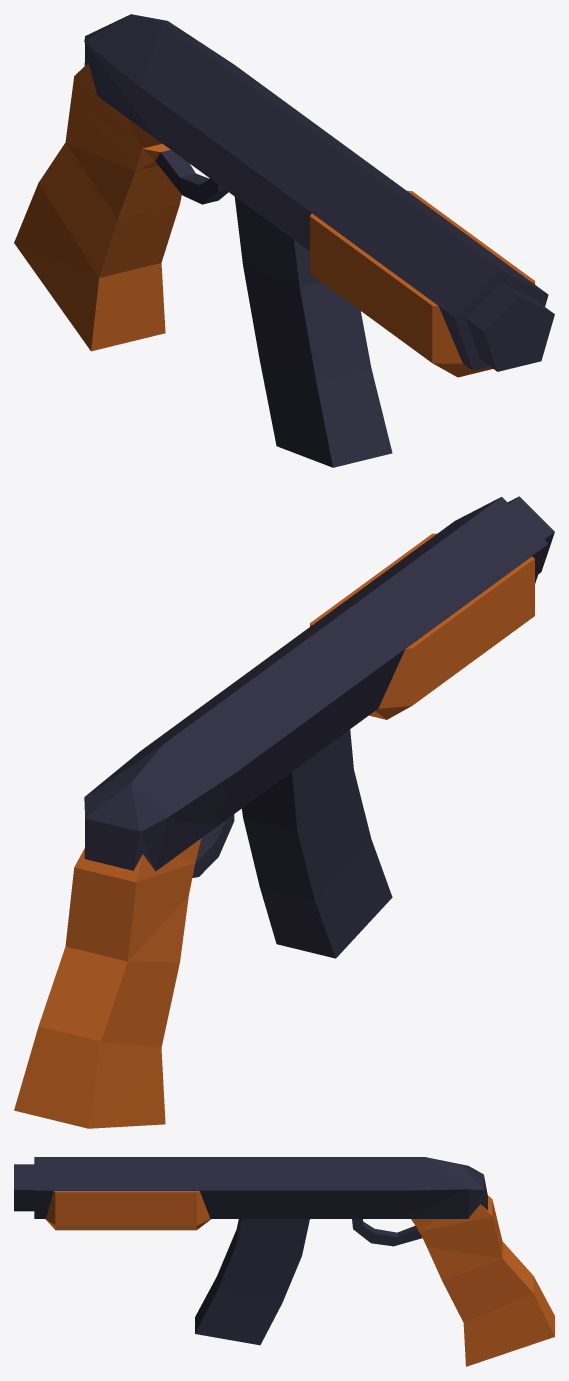
The model's file is gun.obj.
3 renders of one model, top to bottom at view 1: azimuth 30°, elevation 25°; view 2: azimuth 150°, elevation 25°; view 3: azimuth 270°, elevation 25°, orthographic. The views are drawn at different scales.
Size of the model in its own units: 1.48 by 4.77 by 11.73.
